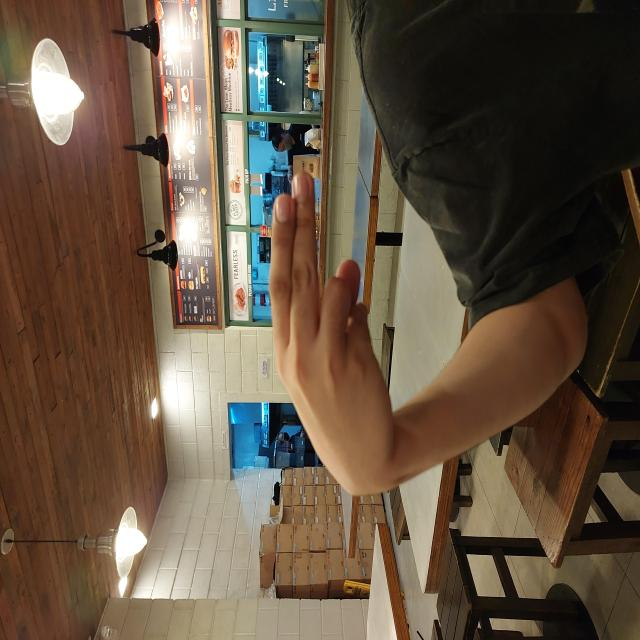H: (144, 266, 469, 396)
